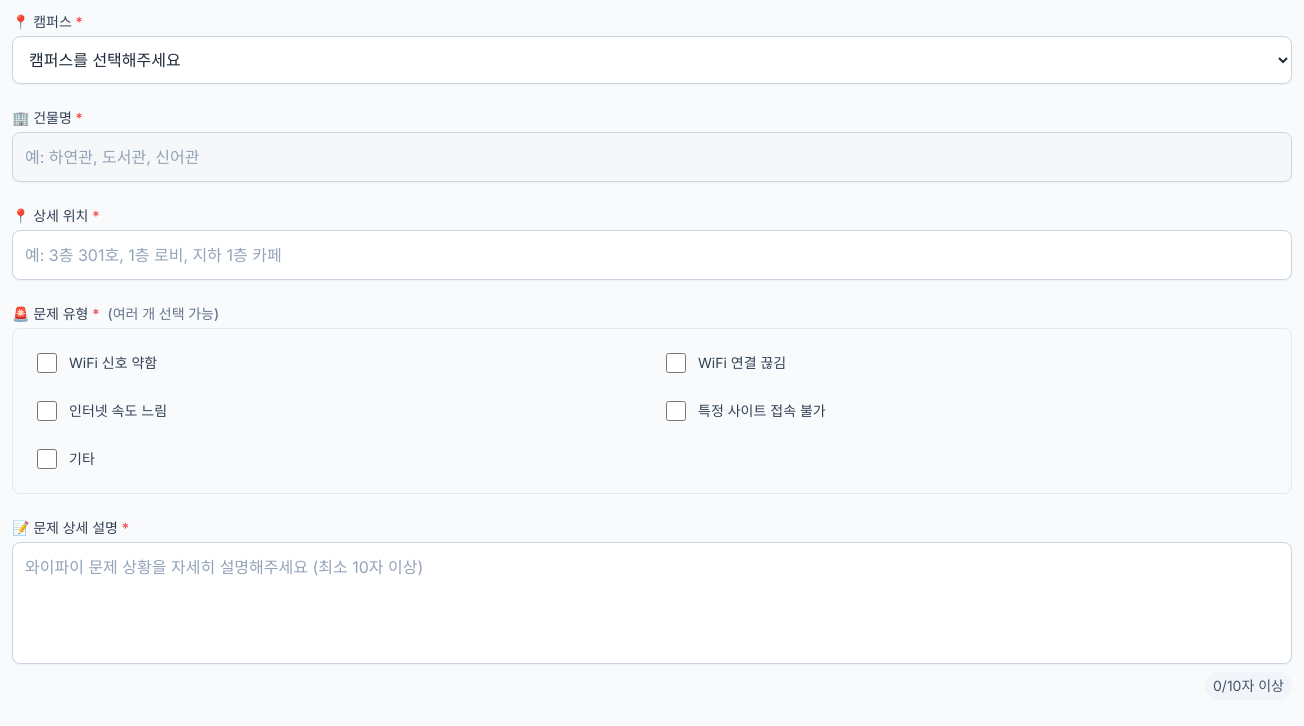
ReportForm › validates description minimum length
Type "short" into the text box labelled "📝 문제 상세 설명 *". click: (652, 603)
box: [12,542,1292,664]
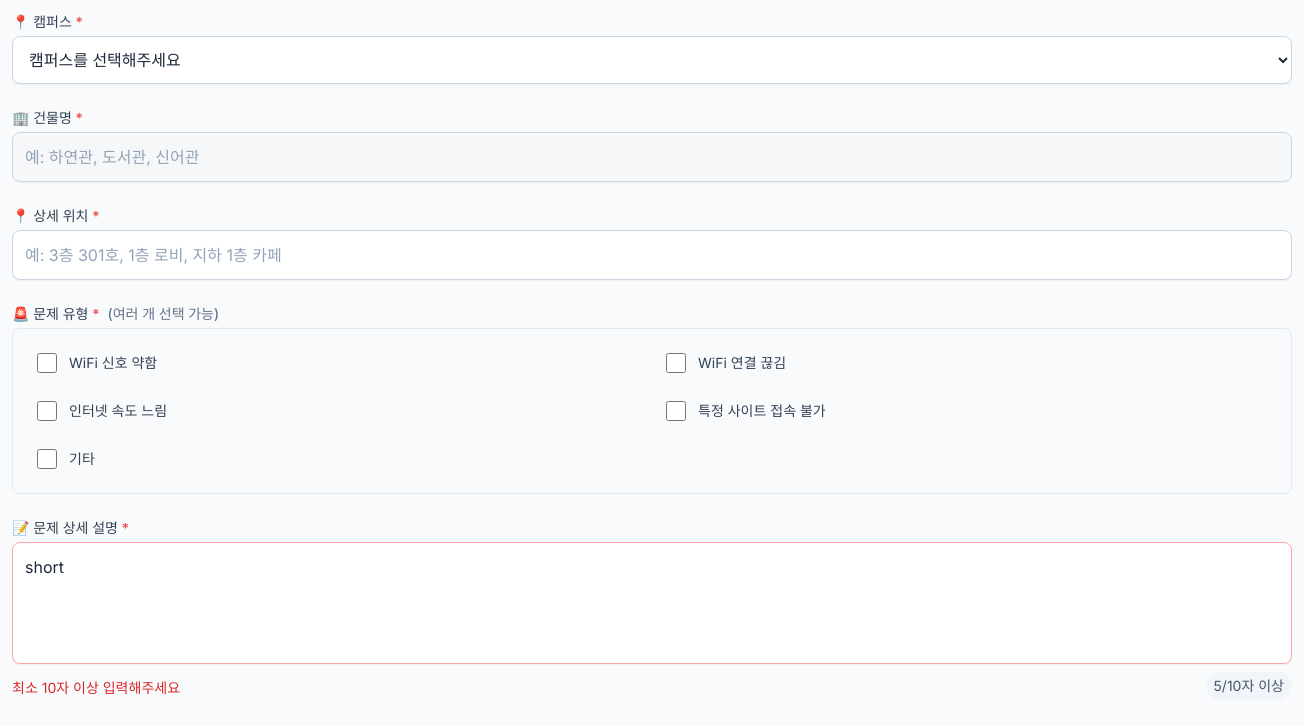
Expected: the text "최소 10자 이상 입력해주세요" is shown, [12,678,180,698]
